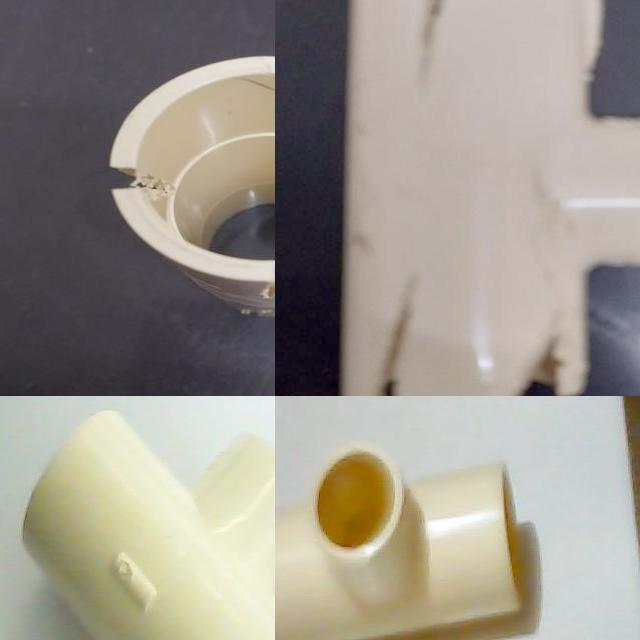Defective: (77, 143, 182, 240), (396, 0, 490, 99), (362, 269, 431, 396), (498, 321, 590, 396), (260, 251, 275, 309)
T Joint: (336, 0, 640, 396), (20, 410, 275, 640), (275, 442, 540, 640)
